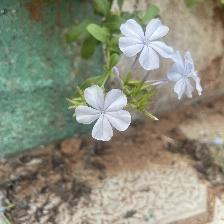chitrak: (78, 82, 133, 145), (119, 18, 173, 73), (170, 54, 200, 100)
